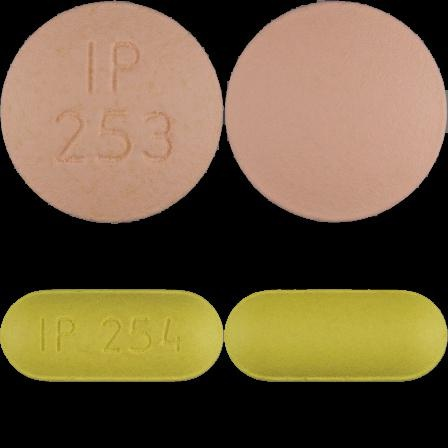50268-692: (0, 0, 224, 224)
